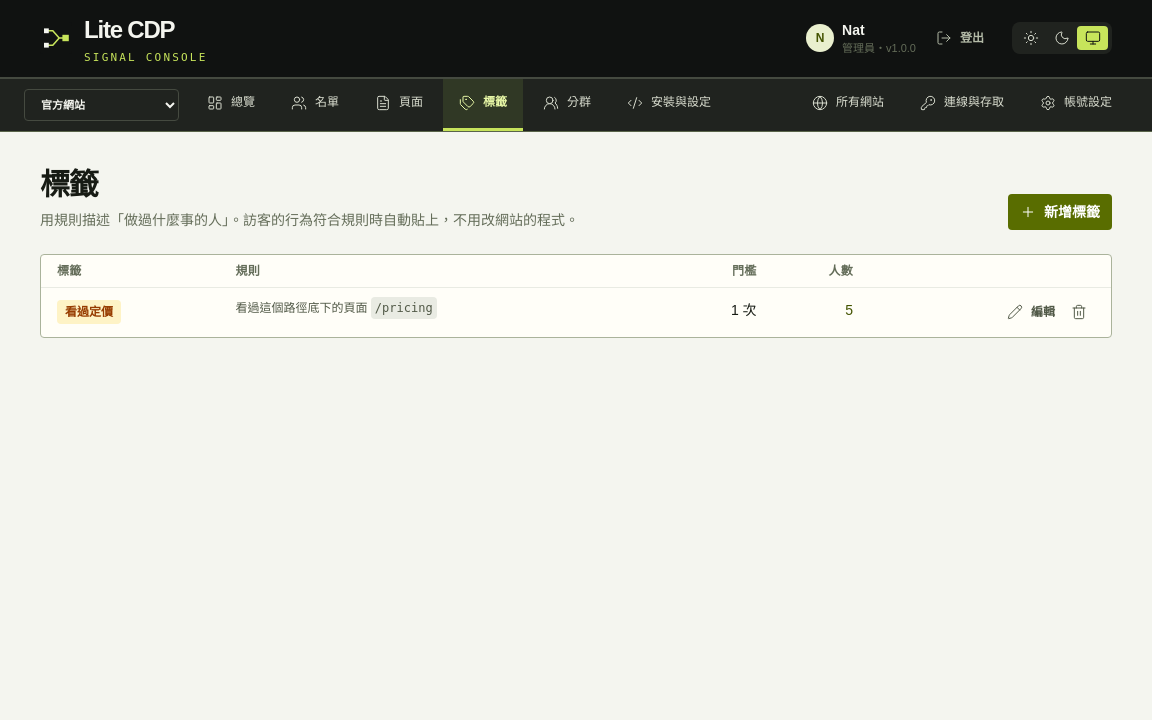
Test: 刪不掉（還有分群在用）時顯示後端的訊息
What coordinates should you click on to do the following:
click the button named "刪除 看過定價"
I would click on:
 (1079, 312)
Its box is x1=1063 y1=300 x2=1095 y2=324.
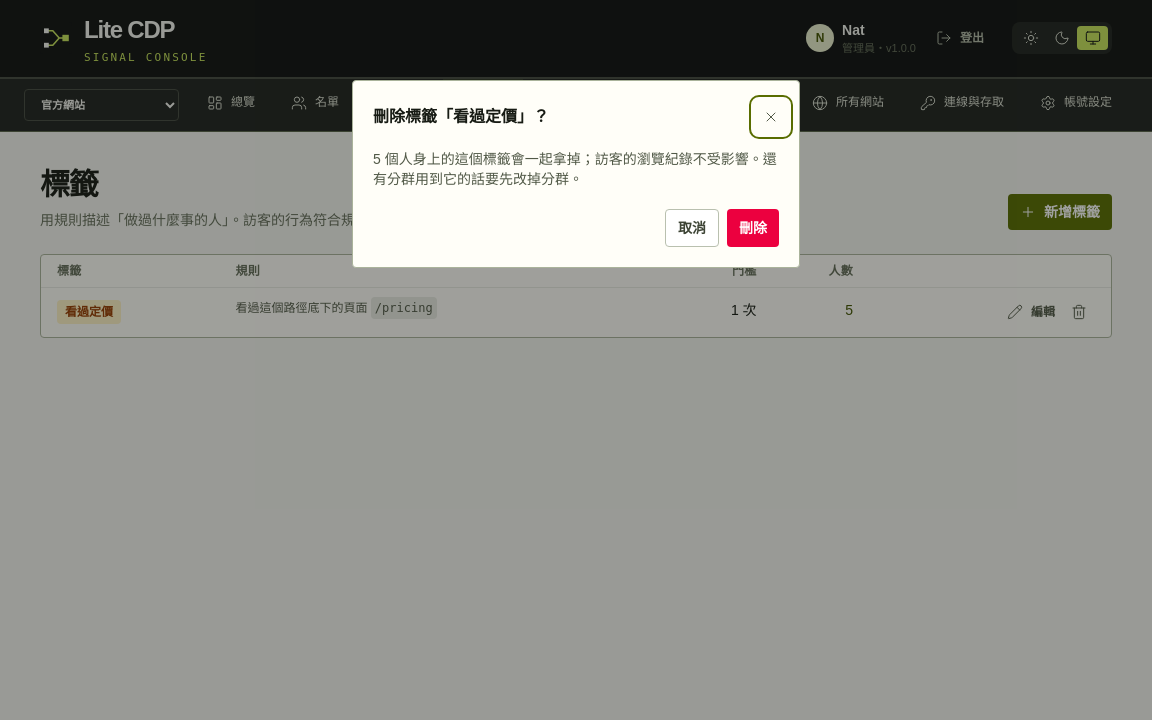
What coordinates should you click on to do the following:
click the button "刪除"
I would click on:
 (753, 228)
Its box is x1=727 y1=209 x2=779 y2=247.
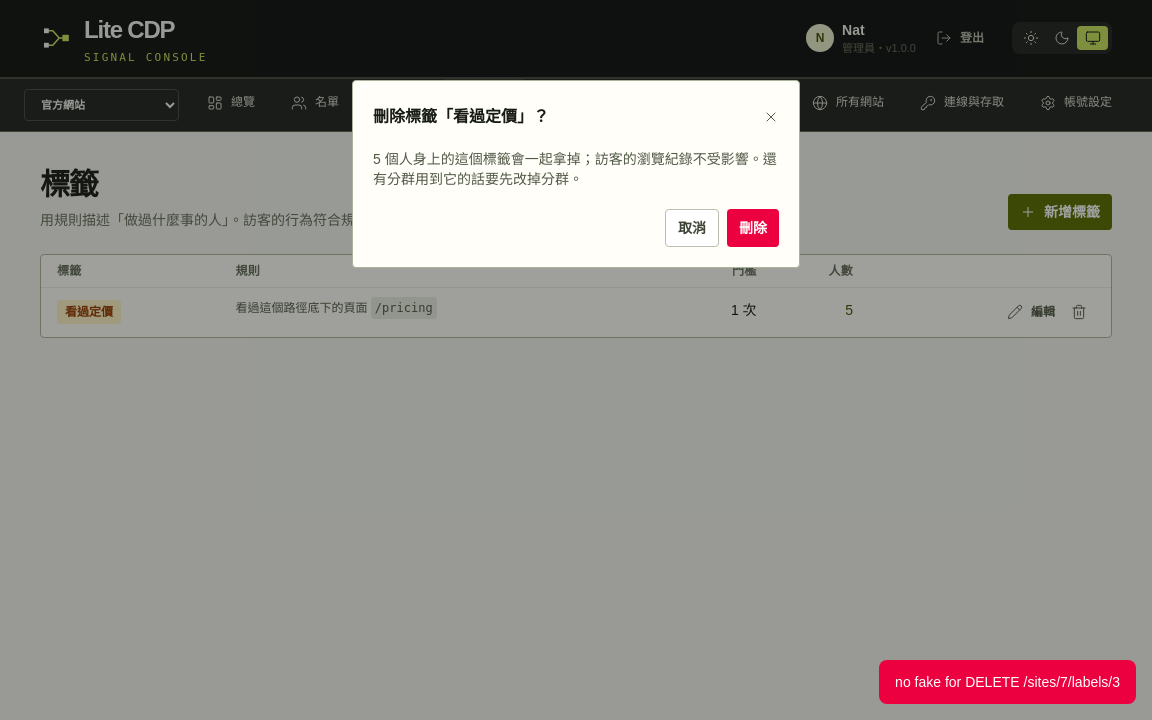
Now the text "no fake for DELETE /sites/7/labels/3" is shown, box x1=879 y1=660 x2=1136 y2=704
